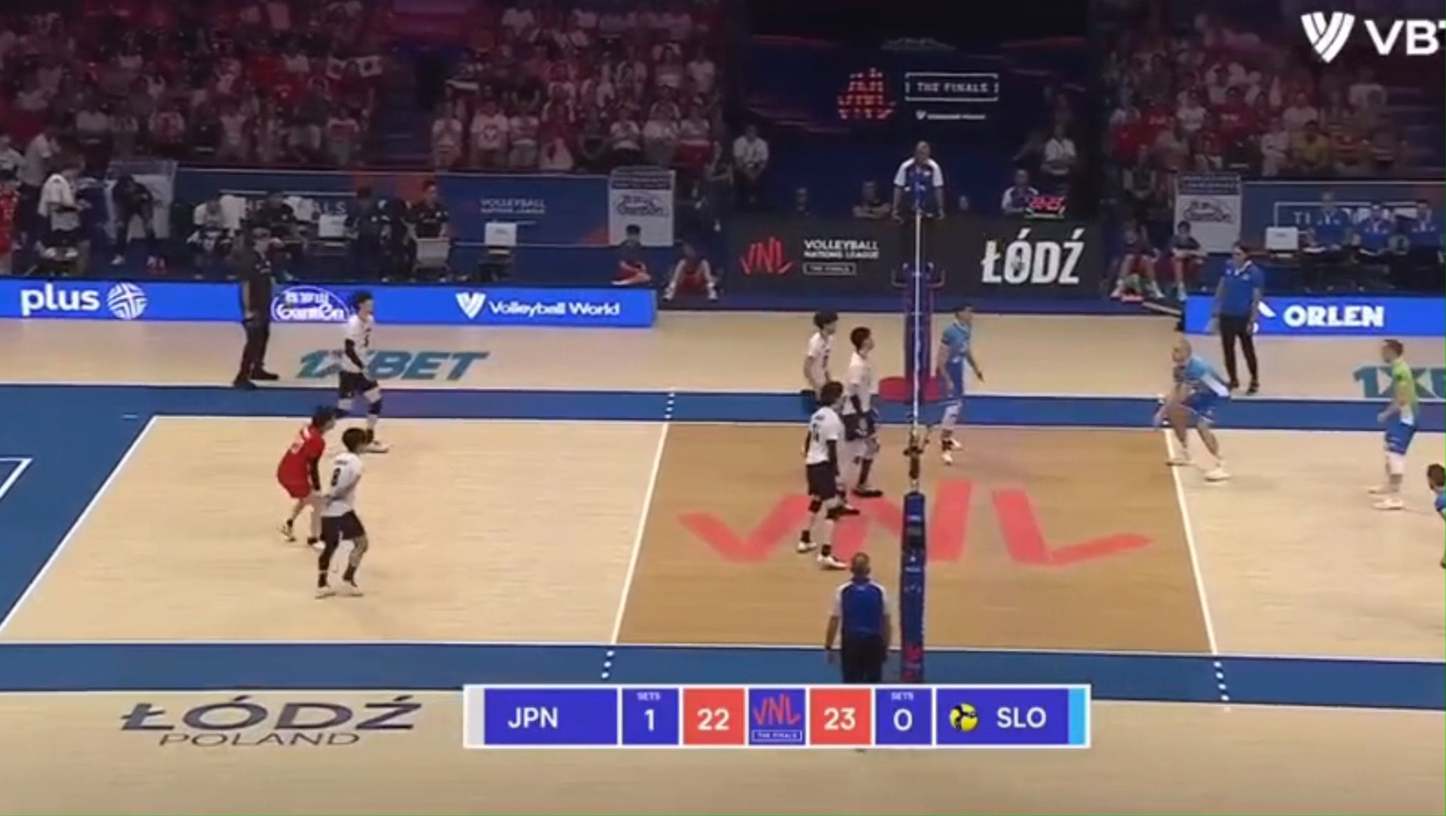player: (1154, 338, 1231, 481), (1371, 339, 1420, 510), (935, 305, 983, 464), (1426, 463, 1445, 520), (1441, 555, 1445, 568)
player 1: (796, 382, 848, 569), (333, 292, 388, 452), (317, 428, 368, 597), (277, 406, 334, 545), (841, 326, 882, 497), (800, 310, 838, 411)
referee: (824, 552, 891, 684), (230, 226, 279, 388), (891, 141, 944, 290), (1211, 243, 1263, 394)
